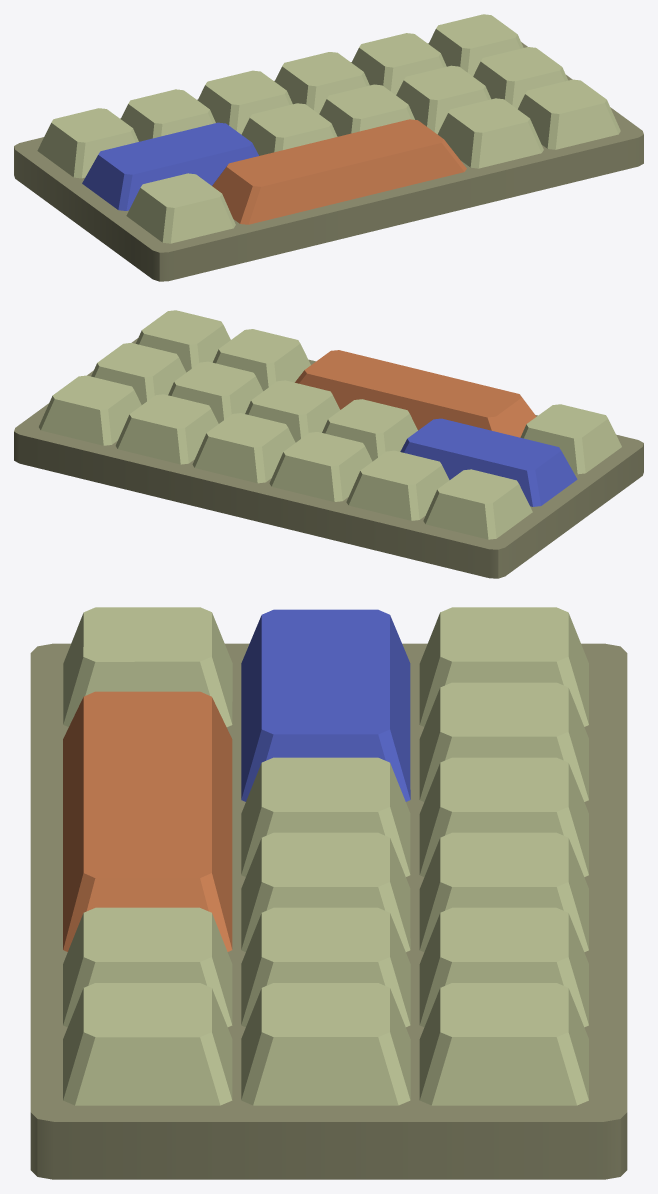
The model's file is Keyboard_l.fbx.
The picture shows the model from 3 angles, top to bottom: view 1: azimuth 30°, elevation 25°; view 2: azimuth 150°, elevation 25°; view 3: azimuth 270°, elevation 25°; orthographic projection. The views are drawn at different scales.
Parts seen in each view (by area): view 1: Plane.062; view 2: Plane.062; view 3: Plane.062.
Boxes of the visible parts, box(x1,y1,x2,y2) form: Plane.062: box(14, 14, 643, 281); Plane.062: box(14, 310, 643, 578); Plane.062: box(30, 607, 627, 1179).
Size of the model in its own units: 38.89 by 20.51 by 4.47.
